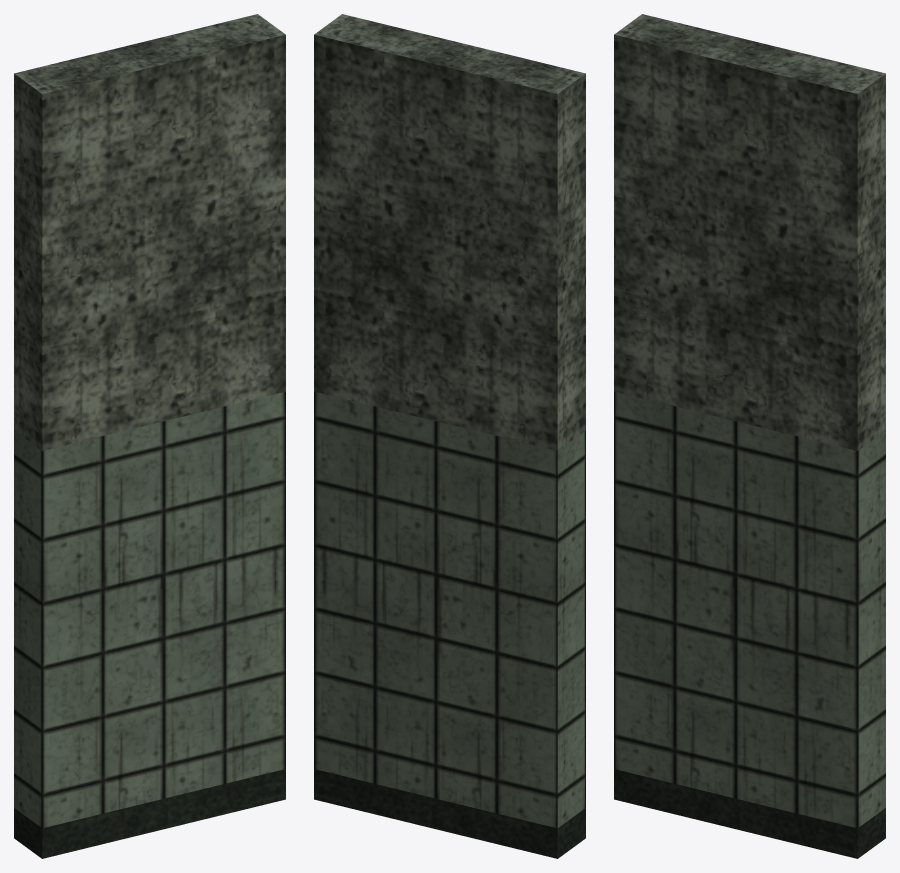
Rendered from SM_Wall_1m.fbx.
The picture shows the model from 3 angles, left to right: view 1: azimuth 30°, elevation 25°; view 2: azimuth 150°, elevation 25°; view 3: azimuth 330°, elevation 25°; orthographic projection.
Parts seen in each view (by area): view 1: SM_Wall_1m; view 2: SM_Wall_1m; view 3: SM_Wall_1m.
Part boxes in pixels (left/top/right/bottom): SM_Wall_1m: left=14, top=14, right=285, bottom=858; SM_Wall_1m: left=314, top=14, right=585, bottom=858; SM_Wall_1m: left=614, top=14, right=885, bottom=858.
Bounding box in the file's own units: 1 × 3 × 0.2.
